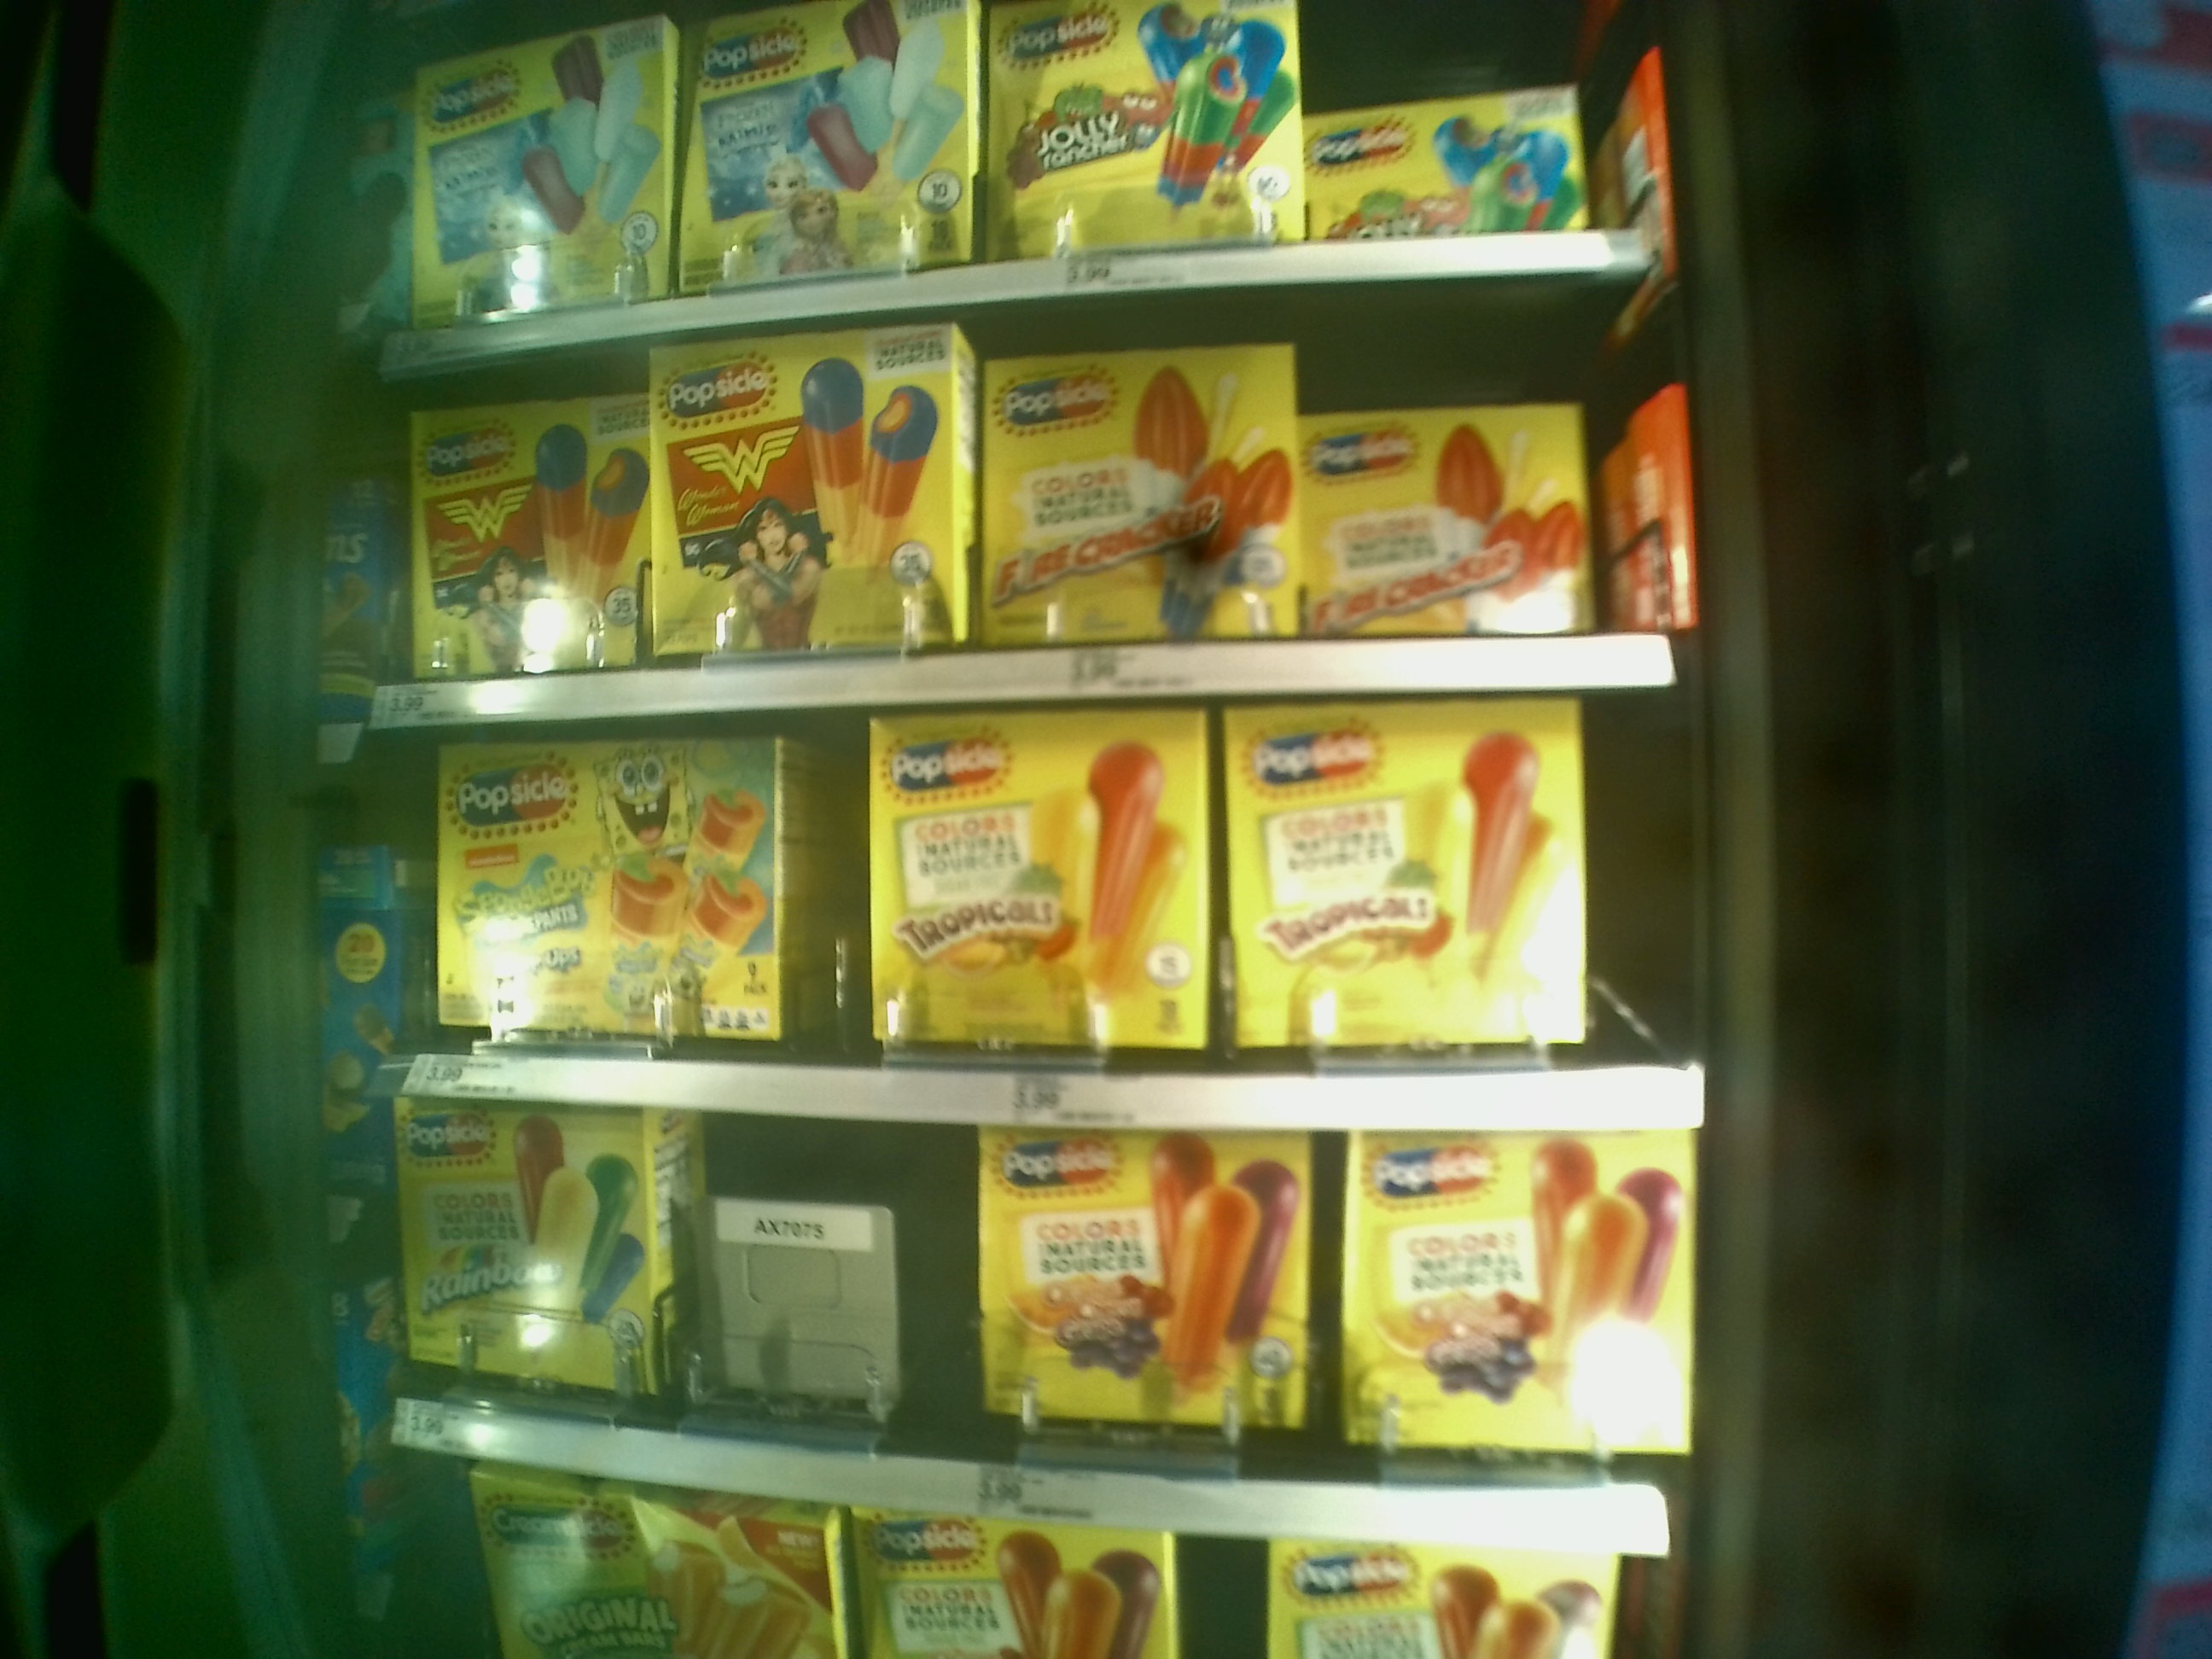shelf: (387, 296, 1714, 711), (385, 692, 1705, 1079), (380, 1107, 1656, 1490)
